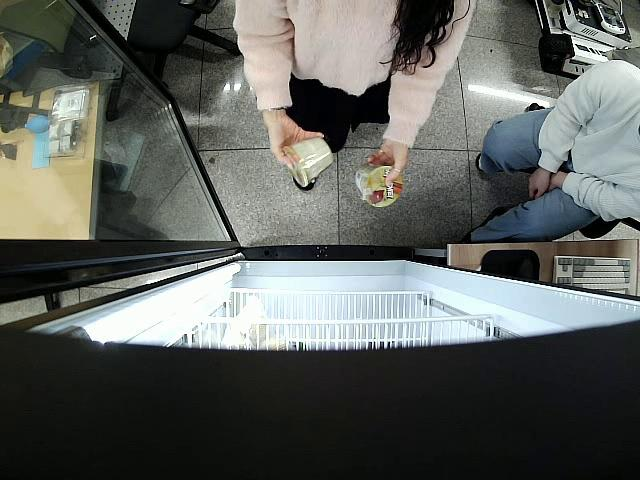00_hand: (268, 123, 326, 169), (369, 148, 406, 187)
04_chapagetti_S: (281, 138, 334, 188), (356, 162, 406, 208)
